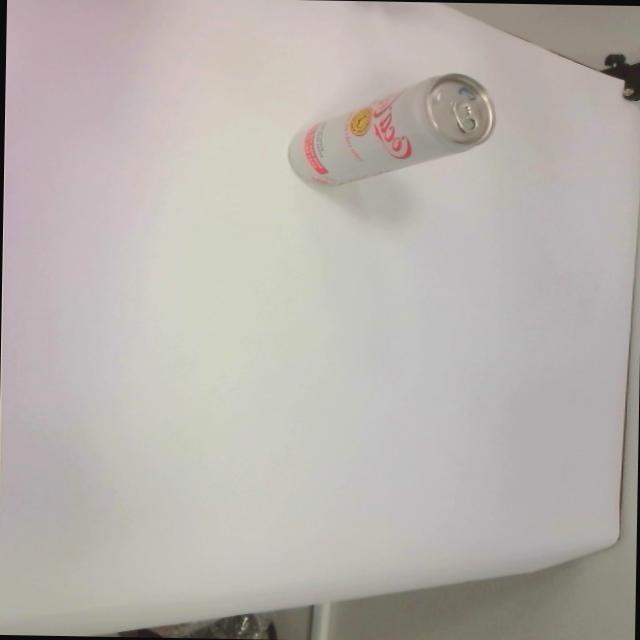debris: (286, 68, 497, 190)
